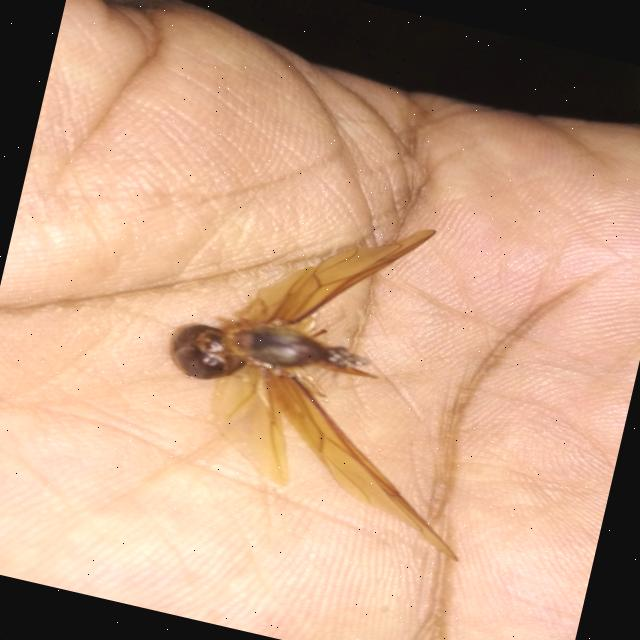Dead-Male-Alate: (132, 178, 544, 572)
